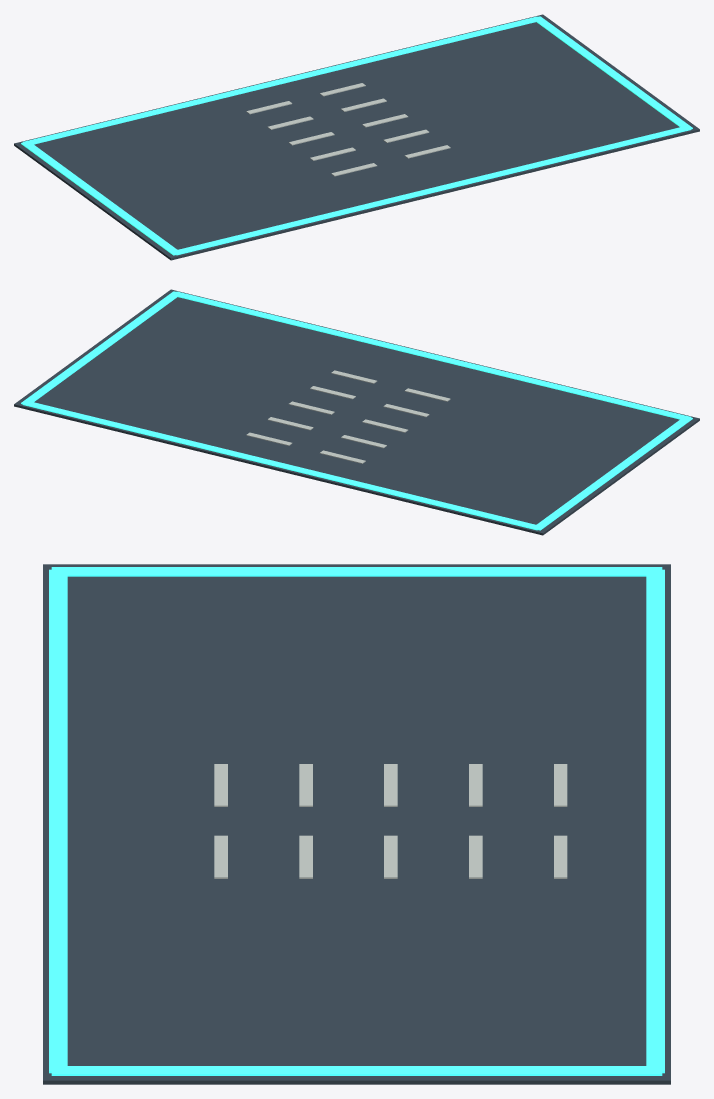
The model's file is extraction-pad.glb.
3 renders of one model, top to bottom at view 1: azimuth 30°, elevation 25°; view 2: azimuth 150°, elevation 25°; view 3: azimuth 270°, elevation 25°, orthographic. The views are drawn at different scales.
Parts seen in each view (by area): view 1: Extraction_Airlock07; view 2: Extraction_Airlock07; view 3: Extraction_Airlock07.
Boxes of the visible parts, left/top/right/bottom form: Extraction_Airlock07: left=14, top=14, right=699, bottom=260; Extraction_Airlock07: left=14, top=289, right=699, bottom=535; Extraction_Airlock07: left=43, top=564, right=670, bottom=1084.
Bounding box in the file's own units: 3.6 × 0.02 × 1.85.
